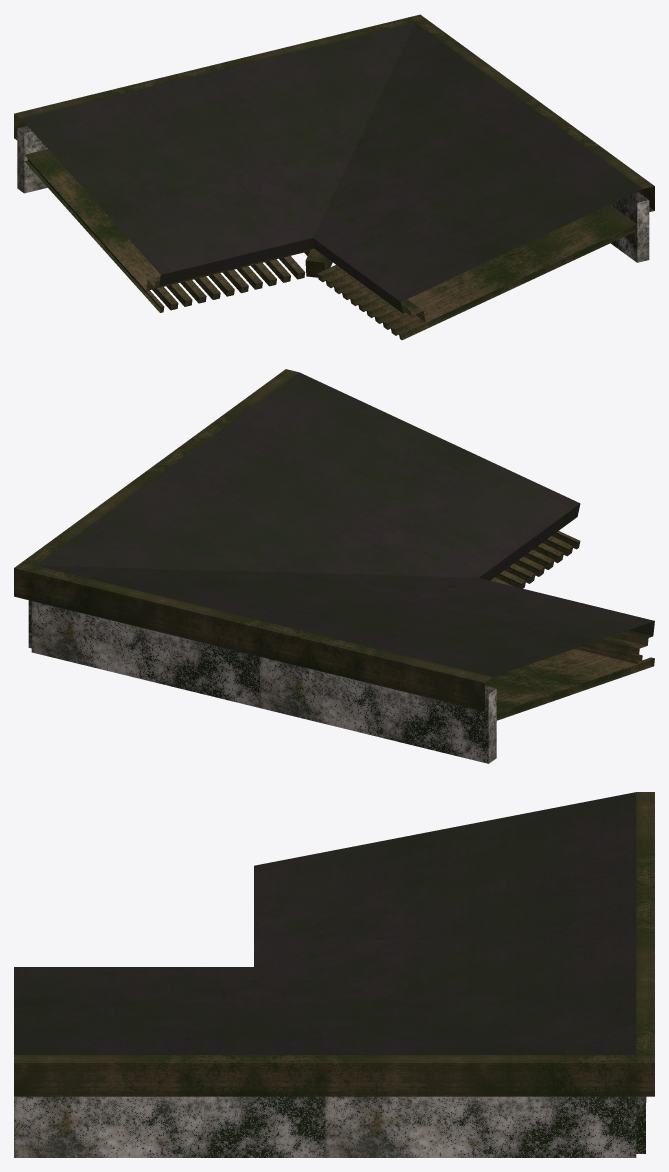
Rendered from shrine_roof_07.fbx.
The picture shows the model from 3 angles, top to bottom: view 1: azimuth 30°, elevation 25°; view 2: azimuth 150°, elevation 25°; view 3: azimuth 270°, elevation 25°; orthographic projection. The views are drawn at different scales.
Visible parts, largest first — view 1: shrine_roof_07; view 2: shrine_roof_07; view 3: shrine_roof_07.
Part boxes in pixels (left/top/right/bottom): shrine_roof_07: left=14, top=14, right=654, bottom=340; shrine_roof_07: left=14, top=369, right=654, bottom=763; shrine_roof_07: left=14, top=792, right=654, bottom=1157.
Size of the model in its own units: 680 by 157 by 680.
1 material, 1 textured.
